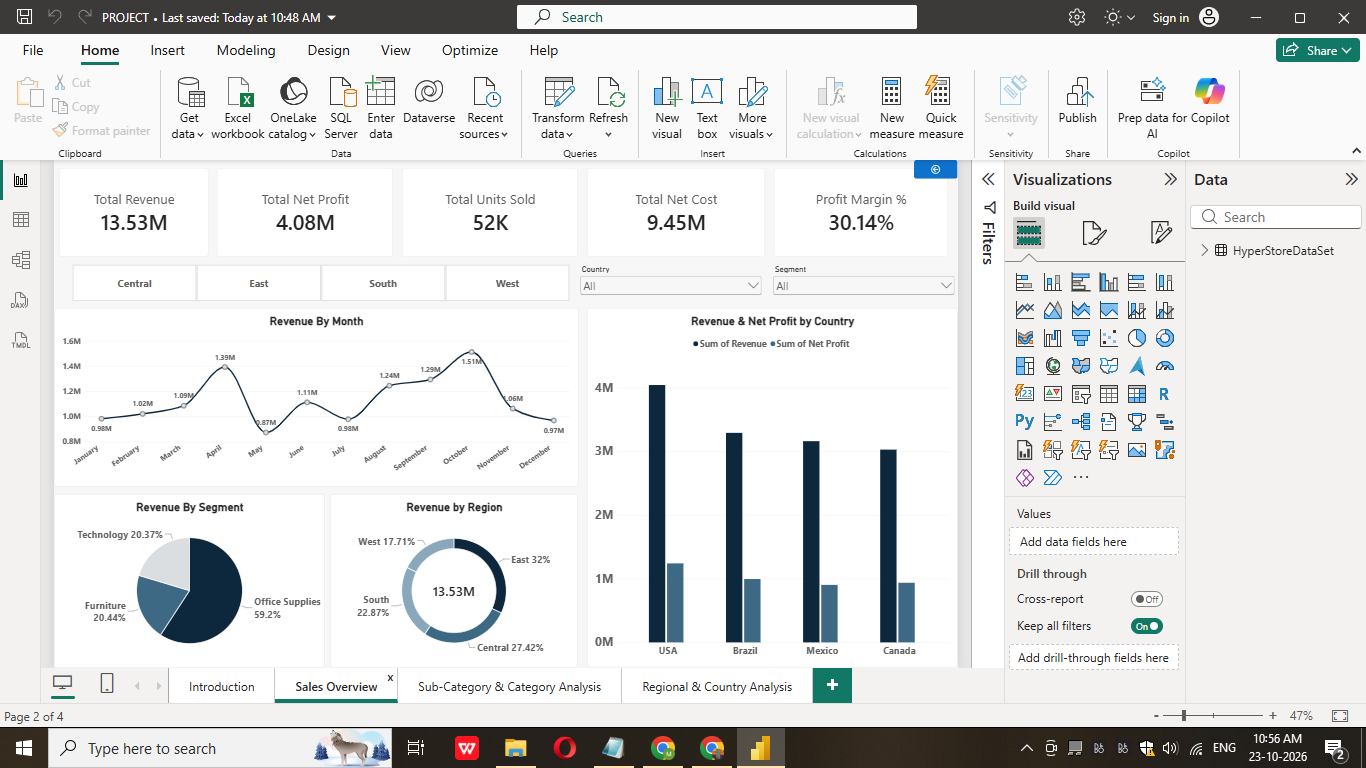

This screenshot's page, from the dashboard's own definition file:
{"tool":"powerbi","page":{"name":"Sales Overview","canvas":[1920,1080],"ordinal":1},"visuals":[{"type":"cardVisual","fields":{"Data":["Sum(HyperStoreDataSet.Revenue)"]},"box":[10.6,17,318.9,189.2],"z":0},{"type":"cardVisual","fields":{"Data":["Sum(HyperStoreDataSet.Net Profit)"]},"box":[346.5,17,374.2,189.2],"z":1000},{"type":"cardVisual","fields":{"Data":["Sum(HyperStoreDataSet.Units Sold)"]},"box":[739.8,17,374.2,189.2],"z":2000},{"type":"cardVisual","fields":{"Data":["Sum(HyperStoreDataSet.Net Cost)"]},"box":[1133.1,17,378.4,189.2],"z":3000},{"type":"cardVisual","fields":{"Data":["HyperStoreDataSet.Profit Margin %"]},"box":[1530.7,17,369.9,189.2],"z":4000},{"type":"lineChart","title":"Revenue By Month","fields":{"Category":["HyperStoreDataSet.Shipping Date.Variation.Date Hierarchy.Month"],"Y":["Sum(HyperStoreDataSet.Revenue)"]},"box":[0,315.4,1114.6,380.2],"z":5000},{"type":"clusteredColumnChart","title":"Revenue & Net Profit by Country","fields":{"Category":["HyperStoreDataSet.Country"],"Y":["Sum(HyperStoreDataSet.Revenue)","Sum(HyperStoreDataSet.Net Profit)"]},"box":[1132.1,315.6,787.9,763.6],"z":6000},{"type":"pieChart","title":"Revenue By Segment","fields":{"Category":["HyperStoreDataSet.Segment"],"Y":["Sum(HyperStoreDataSet.Revenue)"]},"box":[0,710.1,576.1,369.9],"z":7000},{"type":"donutChart","title":"Revenue by Region","fields":{"Category":["HyperStoreDataSet.Region"],"Y":["Sum(HyperStoreDataSet.Revenue)"]},"box":[586.8,710.1,527.2,369.9],"z":8000},{"type":"slicer","fields":{"Values":["HyperStoreDataSet.Region"]},"box":[19.4,220.3,1095.1,79.9],"z":9000},{"type":"actionButton","box":[1827.3,0,92.7,39.7],"z":10000},{"type":"slicer","fields":{"Values":["HyperStoreDataSet.Country"]},"box":[1114.5,220.7,395,79.4],"z":11000},{"type":"slicer","fields":{"Values":["HyperStoreDataSet.Segment"]},"box":[1525,220.7,395,79.4],"z":12000}]}

Visuals, with their boxes on the page's 1920x1080 design canvas (x1, y1, x2, y2). These are canvas units, not pixel positions in the 1366x768 screenshot, which may show the page scaled, cropped or inside an application window:
cardVisual - Sum(HyperStoreDataSet.Revenue): bbox=[11, 17, 330, 206]
cardVisual - Sum(HyperStoreDataSet.Net Profit): bbox=[346, 17, 721, 206]
cardVisual - Sum(HyperStoreDataSet.Units Sold): bbox=[740, 17, 1114, 206]
cardVisual - Sum(HyperStoreDataSet.Net Cost): bbox=[1133, 17, 1512, 206]
cardVisual - HyperStoreDataSet.Profit Margin %: bbox=[1531, 17, 1901, 206]
"Revenue By Month" lineChart: bbox=[0, 315, 1115, 696]
"Revenue & Net Profit by Country" clusteredColumnChart: bbox=[1132, 316, 1920, 1079]
"Revenue By Segment" pieChart: bbox=[0, 710, 576, 1080]
"Revenue by Region" donutChart: bbox=[587, 710, 1114, 1080]
slicer - HyperStoreDataSet.Region: bbox=[19, 220, 1114, 300]
actionButton: bbox=[1827, 0, 1920, 40]
slicer - HyperStoreDataSet.Country: bbox=[1114, 221, 1510, 300]
slicer - HyperStoreDataSet.Segment: bbox=[1525, 221, 1920, 300]
